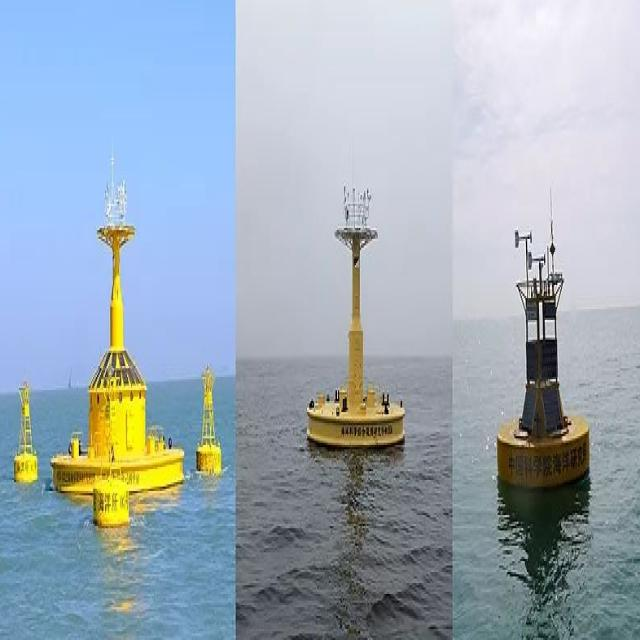buoy: (53, 166, 183, 500), (308, 170, 408, 446), (497, 207, 590, 486), (93, 372, 130, 526), (196, 359, 222, 477), (13, 381, 38, 487)
